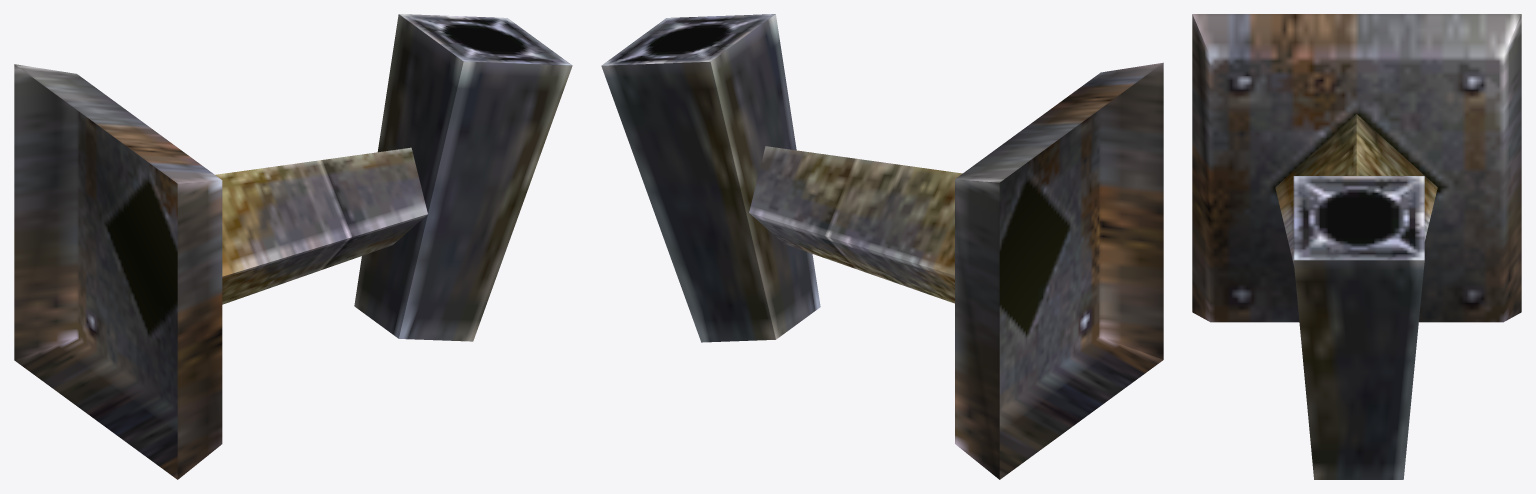
The model's file is d_fakel2.glb.
The picture shows the model from 3 angles, left to right: view 1: azimuth 30°, elevation 25°; view 2: azimuth 150°, elevation 25°; view 3: azimuth 270°, elevation 25°; orthographic projection.
Parts seen in each view (by area): view 1: d_fakel2-col; view 2: d_fakel2-col; view 3: d_fakel2-col.
Part boxes in pixels (x1,y1,x2,y2): d_fakel2-col: [14, 14, 572, 479]; d_fakel2-col: [601, 14, 1163, 479]; d_fakel2-col: [1192, 14, 1521, 479].
Bounding box in the file's own units: 0.2636 × 0.1694 × 0.1676.
Materials: 1 (1 with a texture image).
